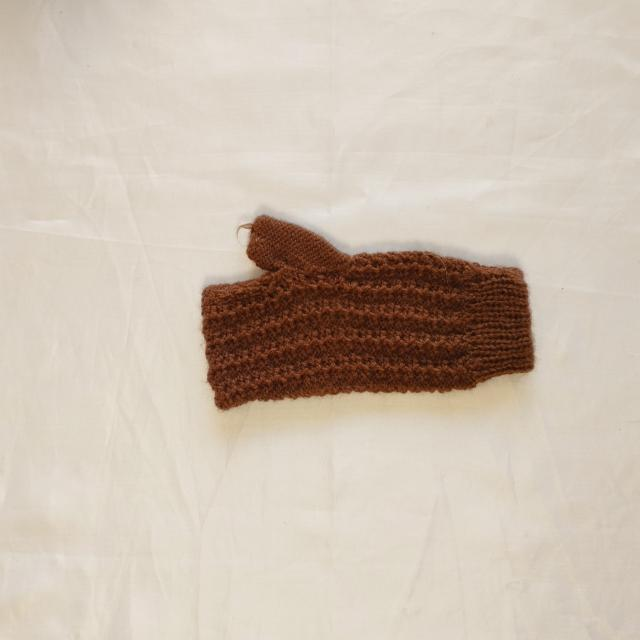Guante: (200, 214, 536, 411)
